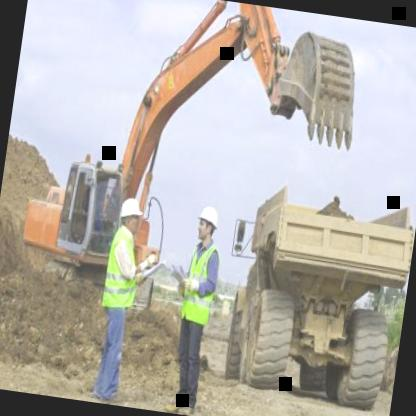helmet: (192, 198, 224, 248), (114, 194, 144, 237)
